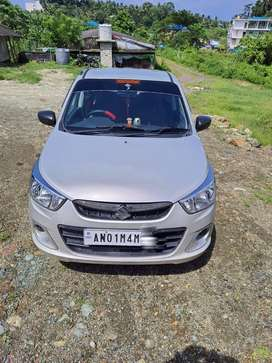AN01M4M: (82, 229, 141, 245)
